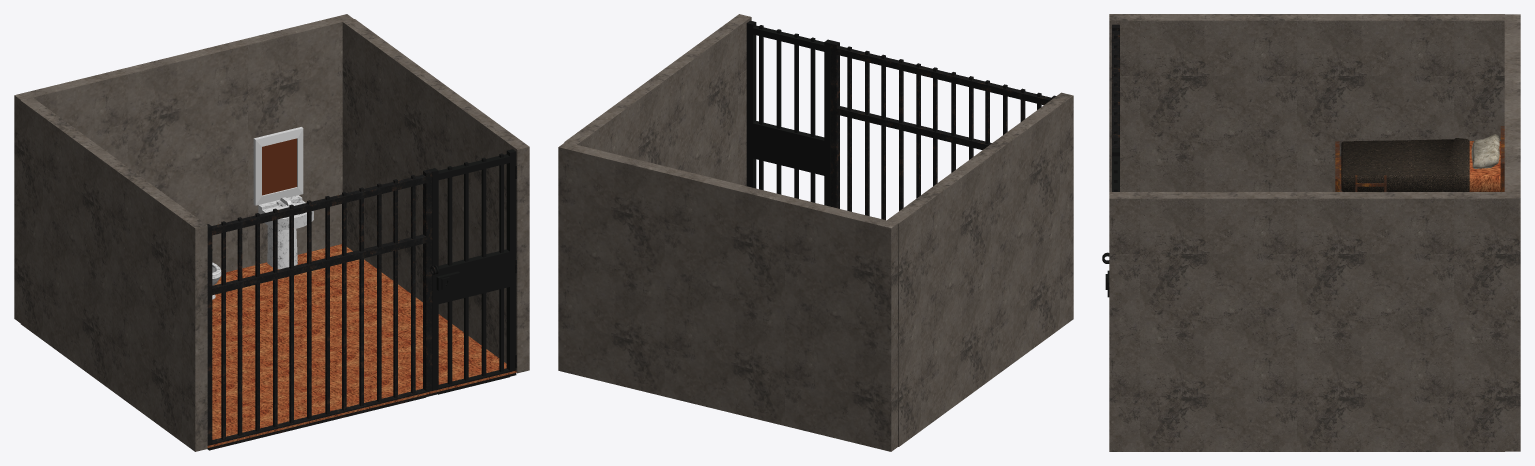
File: prison.glb
The picture shows the model from 3 angles, left to right: view 1: azimuth 30°, elevation 25°; view 2: azimuth 150°, elevation 25°; view 3: azimuth 270°, elevation 25°; orthographic projection. The views are drawn at different scales.
Visible parts, largest first — view 1: BEDS; view 2: BEDS; view 3: BEDS.
Boxes of the visible parts, bbox=[...] form: BEDS: bbox=[14, 14, 529, 451]; BEDS: bbox=[558, 14, 1073, 451]; BEDS: bbox=[1102, 14, 1520, 451].
Bounding box in the file's own units: 5.56 × 3.6 × 5.32.
9 materials, 9 textured.
